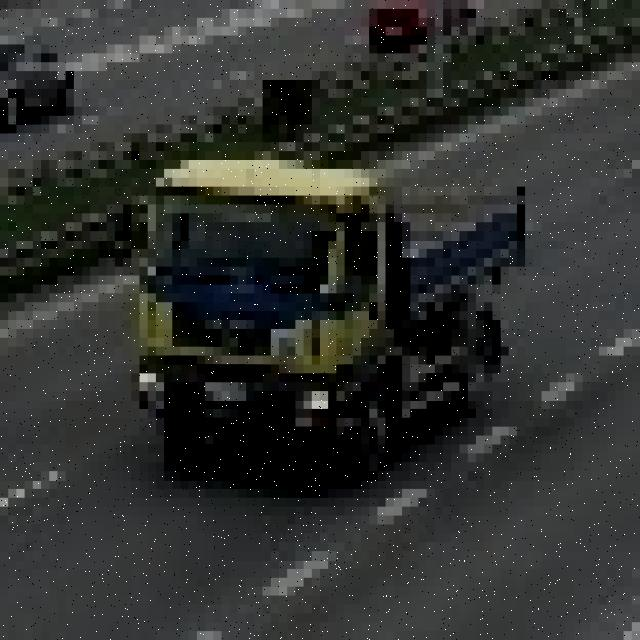truck: (107, 133, 517, 471)
